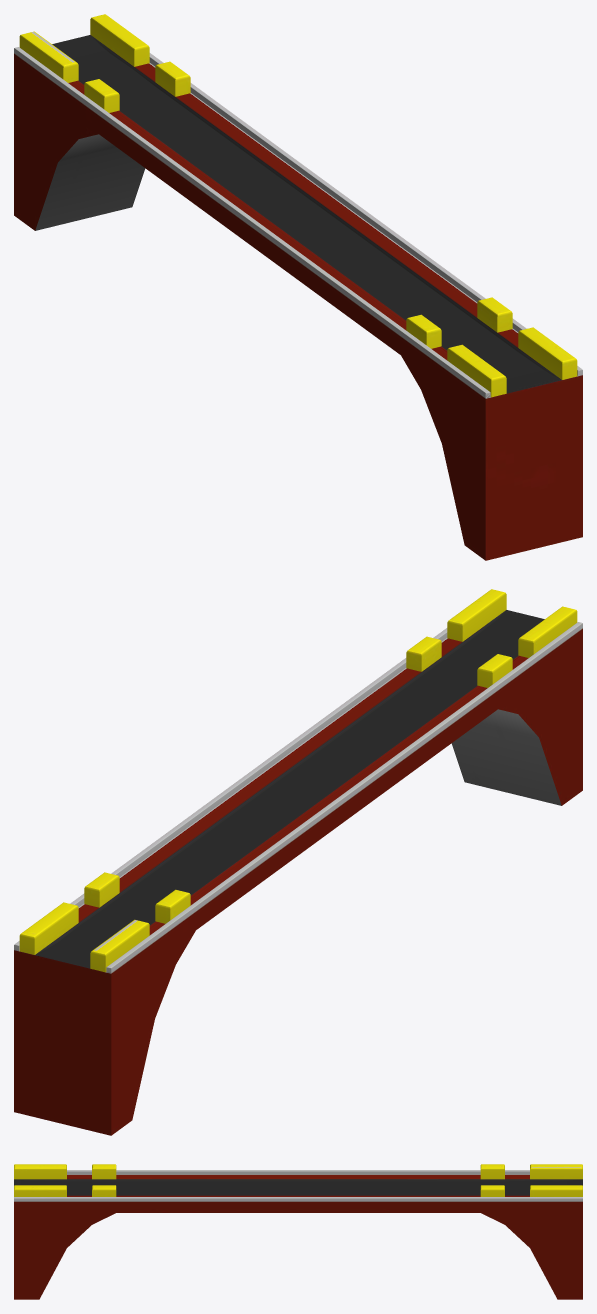
File: Bridge 1.fbx
The picture shows the model from 3 angles, top to bottom: view 1: azimuth 30°, elevation 25°; view 2: azimuth 150°, elevation 25°; view 3: azimuth 270°, elevation 25°; orthographic projection. The views are drawn at different scales.
Parts seen in each view (by area): view 1: pCube4; view 2: pCube4; view 3: pCube4.
Part boxes in pixels (left/top/right/bottom): pCube4: left=14, top=14, right=582, bottom=560; pCube4: left=14, top=589, right=582, bottom=1135; pCube4: left=14, top=1164, right=582, bottom=1299.
Bounding box in the file's own units: 57.49 × 102 × 483.
1 material, 1 textured.
